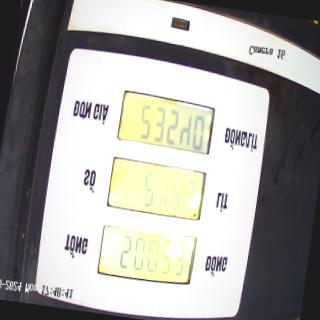screen: (94, 87, 218, 290)
